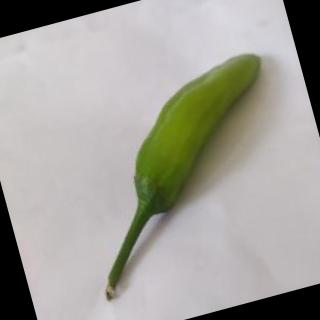Cabai Hijau: (49, 47, 313, 306)
